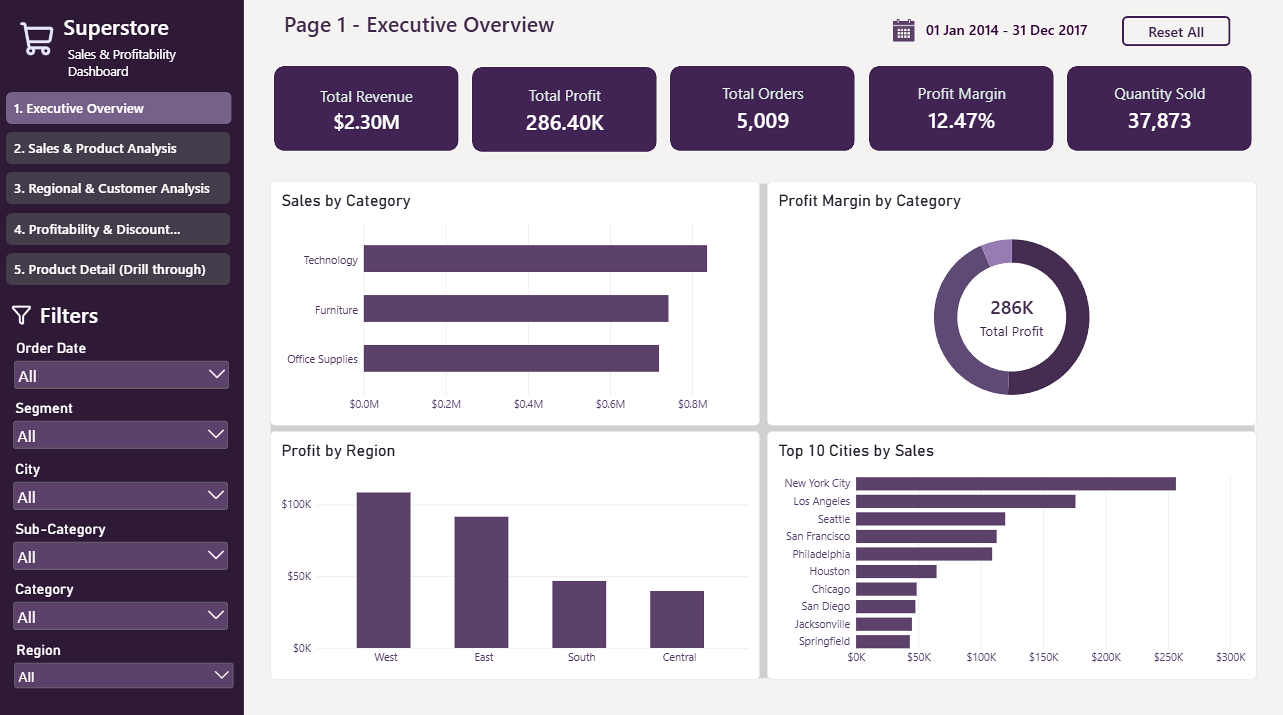

The page's visual inventory and layout, read from the dashboard file:
{"tool":"powerbi","page":{"name":"Executive Overview","canvas":[1920,1080],"ordinal":0},"visuals":[{"type":"group","id":"g1","title":"Group 6","box":[0,0,367.1,1080],"z":0,"group":"g13"},{"type":"shape","box":[0,0,367.1,1080],"z":0,"group":"g1"},{"type":"textbox","box":[77.1,20,209.6,48.3],"z":0,"group":"g8"},{"type":"image","box":[1334,30,35,35],"z":0,"group":"g10"},{"type":"shape","box":[412.1,99.7,275.5,126.7],"z":0,"group":"g9"},{"type":"shape","box":[1003.8,99.7,275.7,126.7],"z":0,"group":"g12"},{"type":"shape","box":[1299.8,99.7,275.7,126.7],"z":0,"group":"g14"},{"type":"shape","box":[1595.8,99.7,275.7,126.7],"z":0,"group":"g15"},{"type":"shape","box":[707.8,101,275.7,126.7],"z":0,"group":"g11"},{"type":"actionButton","box":[13.1,140,337,48],"z":0,"group":"g7"},{"type":"group","id":"g2","title":"Group 12","box":[406,271.6,1471.6,743.3],"z":0},{"type":"shape","box":[406,275.2,1469.8,739.7],"z":0,"group":"g2"},{"type":"textbox","box":[43,450,125.4,46.7],"z":0,"group":"g6"},{"type":"group","id":"g3","title":"Group 1","box":[18,510,338.4,537.9],"z":0,"group":"g4"},{"type":"slicer","fields":{"Values":["Sample - Superstore.Order Date"]},"box":[19.8,510,330.4,87],"z":0,"group":"g3"},{"type":"group","id":"g4","title":"Group 5","box":[4.9,20,351.5,1027.9],"z":1000,"group":"g1"},{"type":"textbox","box":[1384,31.4,294.3,37.1],"z":1000,"group":"g10"},{"type":"image","box":[30,32,55,55],"z":1000,"group":"g13"},{"type":"textbox","box":[105.6,70,221.6,61.4],"z":1000,"group":"g8"},{"type":"group","id":"g5","title":"Group 13","box":[412.1,99.7,1458.4,127.9],"z":1000},{"type":"cardVisual","fields":{"Data":["Sum(Sample - Superstore.Sales)"]},"box":[412.3,121.1,277,88.3],"z":1000,"group":"g9"},{"type":"cardVisual","fields":{"Data":["Count(Sample - Superstore.Order ID)"]},"box":[1042.4,123.5,200,79.1],"z":1000,"group":"g12"},{"type":"cardVisual","fields":{"Data":["Sample - Superstore.Profit Margin"]},"box":[1338.4,123.5,200,79.1],"z":1000,"group":"g14"},{"type":"cardVisual","fields":{"Data":["Sum(Sample - Superstore.Quantity)"]},"box":[1634.4,123.5,200,79.1],"z":1000,"group":"g15"},{"type":"cardVisual","fields":{"Data":["Sum(Sample - Superstore.Profit)"]},"box":[747.2,126.1,200,79.1],"z":1000,"group":"g11"},{"type":"actionButton","box":[12.8,320,335,48],"z":1000,"group":"g7"},{"type":"image","box":[4.9,456.9,60.7,31.5],"z":1000,"group":"g6"},{"type":"slicer","fields":{"Values":["Sample - Superstore.Category"]},"box":[18.4,870,330.4,87],"z":1000,"group":"g3"},{"type":"textbox","box":[427.1,14.3,519.8,70],"z":2000},{"type":"group","id":"g6","title":"Group 3","box":[4.9,140,345.2,356.7],"z":2000,"group":"g4"},{"type":"group","id":"g7","title":"Group 2","box":[12.8,140,337.2,288],"z":2000,"group":"g6"},{"type":"actionButton","box":[12.8,380,335,48],"z":2000,"group":"g7"},{"type":"slicer","fields":{"Values":["Sample - Superstore.Sub-Category"]},"box":[18.4,780,330.4,87],"z":2000,"group":"g3"},{"type":"group","id":"g8","title":"Group 4","box":[77.1,20,250.1,111.4],"z":3000,"group":"g4"},{"type":"image","box":[20,22,55,55],"z":3000},{"type":"group","id":"g9","title":"Group 7","box":[412.1,99.7,277.1,126.7],"z":3000,"group":"g5"},{"type":"actionButton","box":[12.8,260,335,48],"z":3000,"group":"g7"},{"type":"clusteredBarChart","title":"Sales by Category","fields":{"Category":["Sample - Superstore.Category"],"Y":["Sum(Sample - Superstore.Sales)"]},"box":[406.3,271.6,730.6,365.3],"z":3000,"group":"g2"},{"type":"slicer","fields":{"Values":["Sample - Superstore.City"]},"box":[18,690,330.4,87],"z":3000,"group":"g3"},{"type":"group","id":"g10","title":"Group 14","box":[1334,30,344,38],"z":4000},{"type":"group","id":"g11","title":"Group 8","box":[707.8,101,275.7,126.7],"z":4000,"group":"g5"},{"type":"actionButton","box":[12.8,200,335,48],"z":4000,"group":"g7"},{"type":"donutChart","title":" Profit Margin by Category","fields":{"Category":["Sample - Superstore.Category"],"Y":["Sum(Sample - Superstore.Profit)"]},"box":[1147.9,271.6,730.6,365.3],"z":4000,"group":"g2"},{"type":"slicer","fields":{"Values":["Sample - Superstore.Segment"]},"box":[18.3,600,330.4,87],"z":4000,"group":"g3"},{"type":"actionButton","box":[1678,26,162,45],"z":5000},{"type":"group","id":"g12","title":"Group 9","box":[1003.8,99.7,275.7,126.7],"z":5000,"group":"g5"},{"type":"clusteredColumnChart","title":"Profit by Region","fields":{"Category":["Sample - Superstore.Region"],"Y":["Sum(Sample - Superstore.Profit)"]},"box":[406.3,645.2,730.6,370.8],"z":5000,"group":"g2"},{"type":"slicer","fields":{"Values":["Sample - Superstore.Region"]},"box":[19.8,960,336.5,87.9],"z":5000,"group":"g3"},{"type":"group","id":"g13","title":"Group 12","box":[0,0,367.1,1080],"z":6000},{"type":"group","id":"g14","title":"Group 10","box":[1299.8,99.7,275.7,126.7],"z":6000,"group":"g5"},{"type":"clusteredBarChart","title":"Top 10 Cities by Sales","fields":{"Category":["Sample - Superstore.City"],"Y":["Sum(Sample - Superstore.Sales)"]},"box":[1147.9,645.2,730.6,370.8],"z":6000,"group":"g2"},{"type":"group","id":"g15","title":"Group 11","box":[1595.8,99.7,275.7,126.7],"z":7000,"group":"g5"}]}

Visuals, with their boxes on the page's 1920x1080 design canvas (x1, y1, x2, y2). These are canvas units, not pixel positions in the 1283x715 screenshot, which may show the page scaled, cropped or inside an application window:
"Group 6" group: <box>0,0,367,1080</box>
shape: <box>0,0,367,1080</box>
textbox: <box>77,20,287,68</box>
image: <box>1334,30,1369,65</box>
shape: <box>412,100,688,226</box>
shape: <box>1004,100,1280,226</box>
shape: <box>1300,100,1576,226</box>
shape: <box>1596,100,1872,226</box>
shape: <box>708,101,984,228</box>
actionButton: <box>13,140,350,188</box>
"Group 12" group: <box>406,272,1878,1015</box>
shape: <box>406,275,1876,1015</box>
textbox: <box>43,450,168,497</box>
"Group 1" group: <box>18,510,356,1048</box>
slicer - Sample - Superstore.Order Date: <box>20,510,350,597</box>
"Group 5" group: <box>5,20,356,1048</box>
textbox: <box>1384,31,1678,68</box>
image: <box>30,32,85,87</box>
textbox: <box>106,70,327,131</box>
"Group 13" group: <box>412,100,1870,228</box>
cardVisual - Sum(Sample - Superstore.Sales): <box>412,121,689,209</box>
cardVisual - Count(Sample - Superstore.Order ID): <box>1042,124,1242,203</box>
cardVisual - Sample - Superstore.Profit Margin: <box>1338,124,1538,203</box>
cardVisual - Sum(Sample - Superstore.Quantity): <box>1634,124,1834,203</box>
cardVisual - Sum(Sample - Superstore.Profit): <box>747,126,947,205</box>
actionButton: <box>13,320,348,368</box>
image: <box>5,457,66,488</box>
slicer - Sample - Superstore.Category: <box>18,870,349,957</box>
textbox: <box>427,14,947,84</box>
"Group 3" group: <box>5,140,350,497</box>
"Group 2" group: <box>13,140,350,428</box>
actionButton: <box>13,380,348,428</box>
slicer - Sample - Superstore.Sub-Category: <box>18,780,349,867</box>
"Group 4" group: <box>77,20,327,131</box>
image: <box>20,22,75,77</box>
"Group 7" group: <box>412,100,689,226</box>
actionButton: <box>13,260,348,308</box>
"Sales by Category" clusteredBarChart: <box>406,272,1137,637</box>
slicer - Sample - Superstore.City: <box>18,690,348,777</box>
"Group 14" group: <box>1334,30,1678,68</box>
"Group 8" group: <box>708,101,984,228</box>
actionButton: <box>13,200,348,248</box>
" Profit Margin by Category" donutChart: <box>1148,272,1878,637</box>
slicer - Sample - Superstore.Segment: <box>18,600,349,687</box>
actionButton: <box>1678,26,1840,71</box>
"Group 9" group: <box>1004,100,1280,226</box>
"Profit by Region" clusteredColumnChart: <box>406,645,1137,1016</box>
slicer - Sample - Superstore.Region: <box>20,960,356,1048</box>
"Group 12" group: <box>0,0,367,1080</box>
"Group 10" group: <box>1300,100,1576,226</box>
"Top 10 Cities by Sales" clusteredBarChart: <box>1148,645,1878,1016</box>
"Group 11" group: <box>1596,100,1872,226</box>
